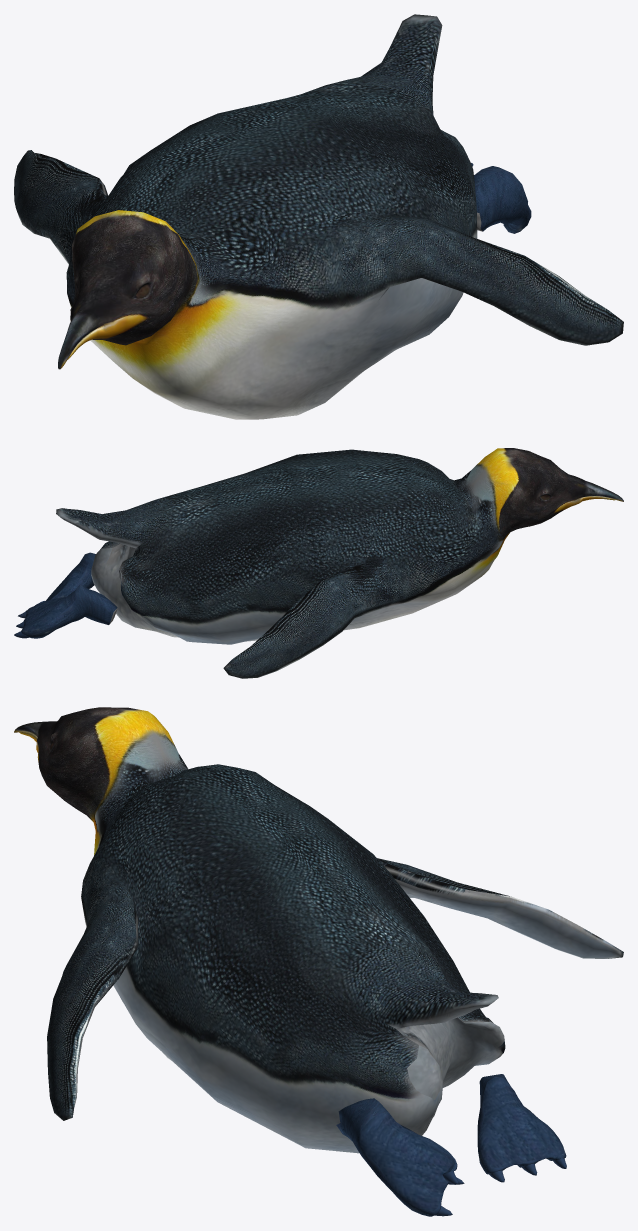
The picture shows the model from 3 angles, top to bottom: view 1: azimuth 30°, elevation 25°; view 2: azimuth 150°, elevation 25°; view 3: azimuth 270°, elevation 25°; orthographic projection. The views are drawn at different scales.
Visible parts, largest first — view 1: penguin.005_penguin.004; view 2: penguin.005_penguin.004; view 3: penguin.005_penguin.004.
Boxes of the visible parts, bbox=[...] form: penguin.005_penguin.004: bbox=[14, 14, 623, 419]; penguin.005_penguin.004: bbox=[14, 448, 623, 678]; penguin.005_penguin.004: bbox=[14, 707, 623, 1216].
Bounding box in the file's own units: 24.45 × 9.7 × 20.12.
